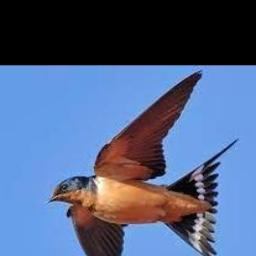Swallow: (43, 70, 239, 256)
